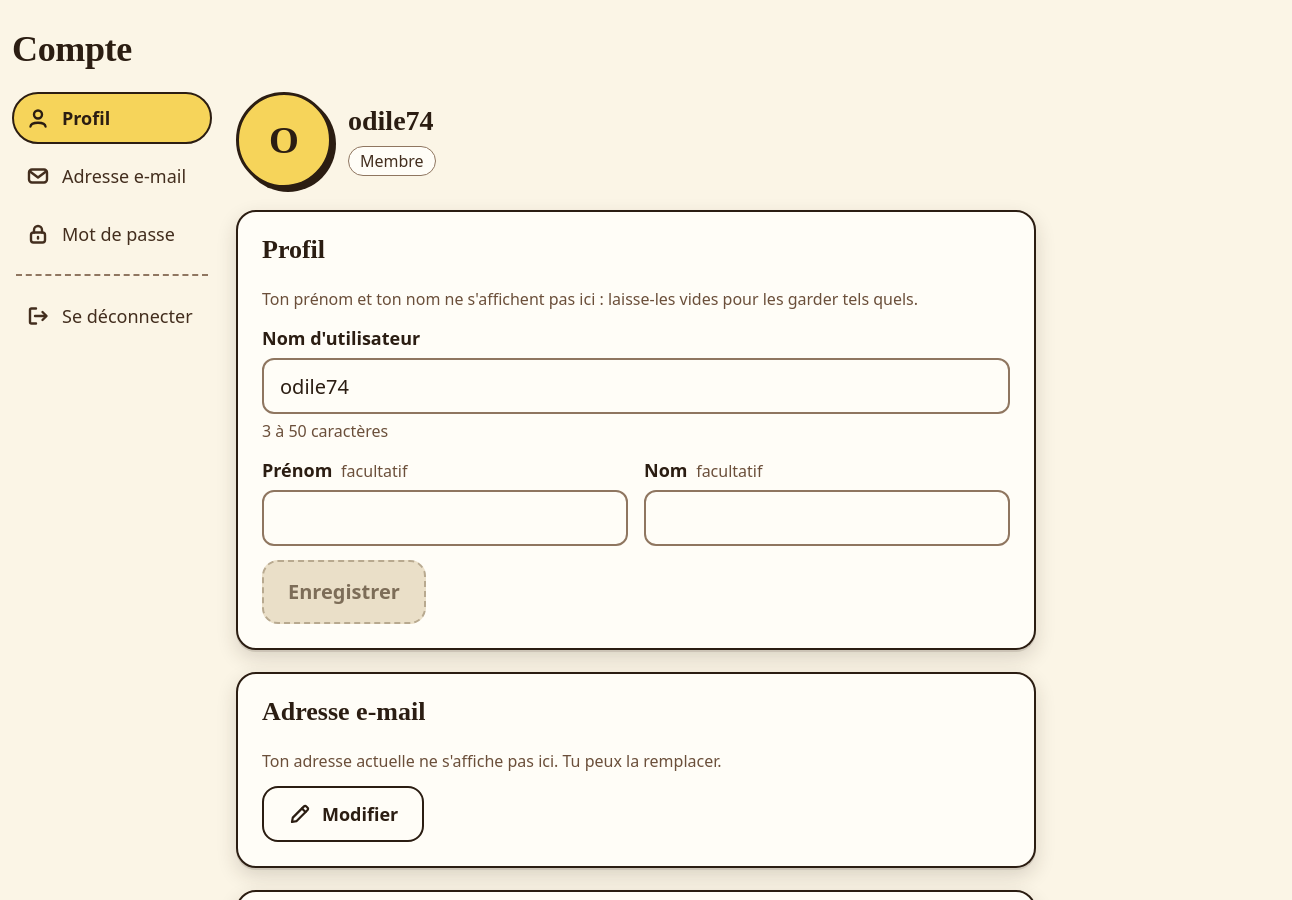
Test case: AccountScreen › when a save fails for another reason, a notification says which and keeps what was typed › says it was not allowed (403), without offering to repeat it
Type "5" into the field labelled "Nom d'utilisateur" at (636, 386), box [262,358,1010,414]
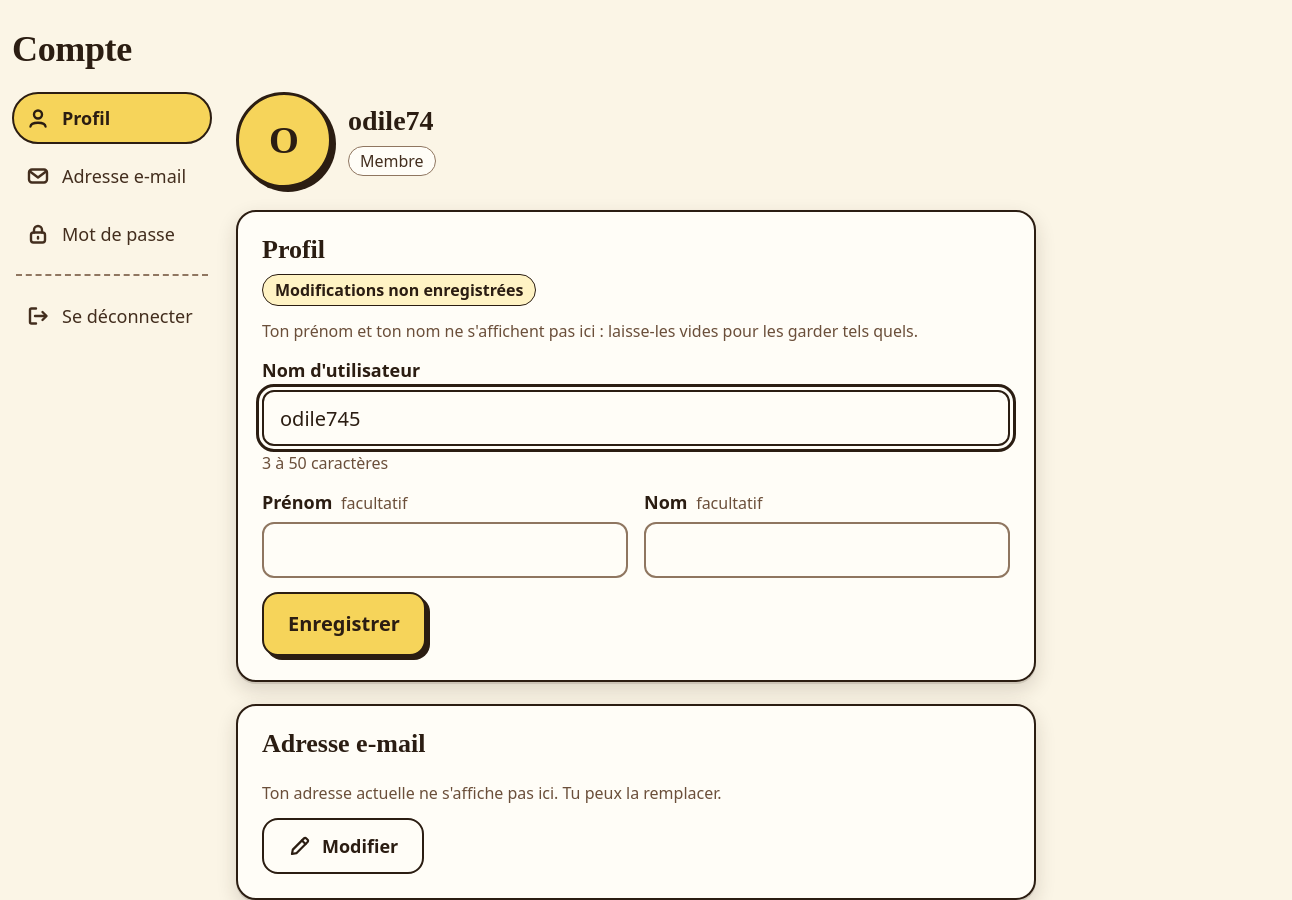
Click the button "Enregistrer" at (344, 624), box [262,592,426,656]
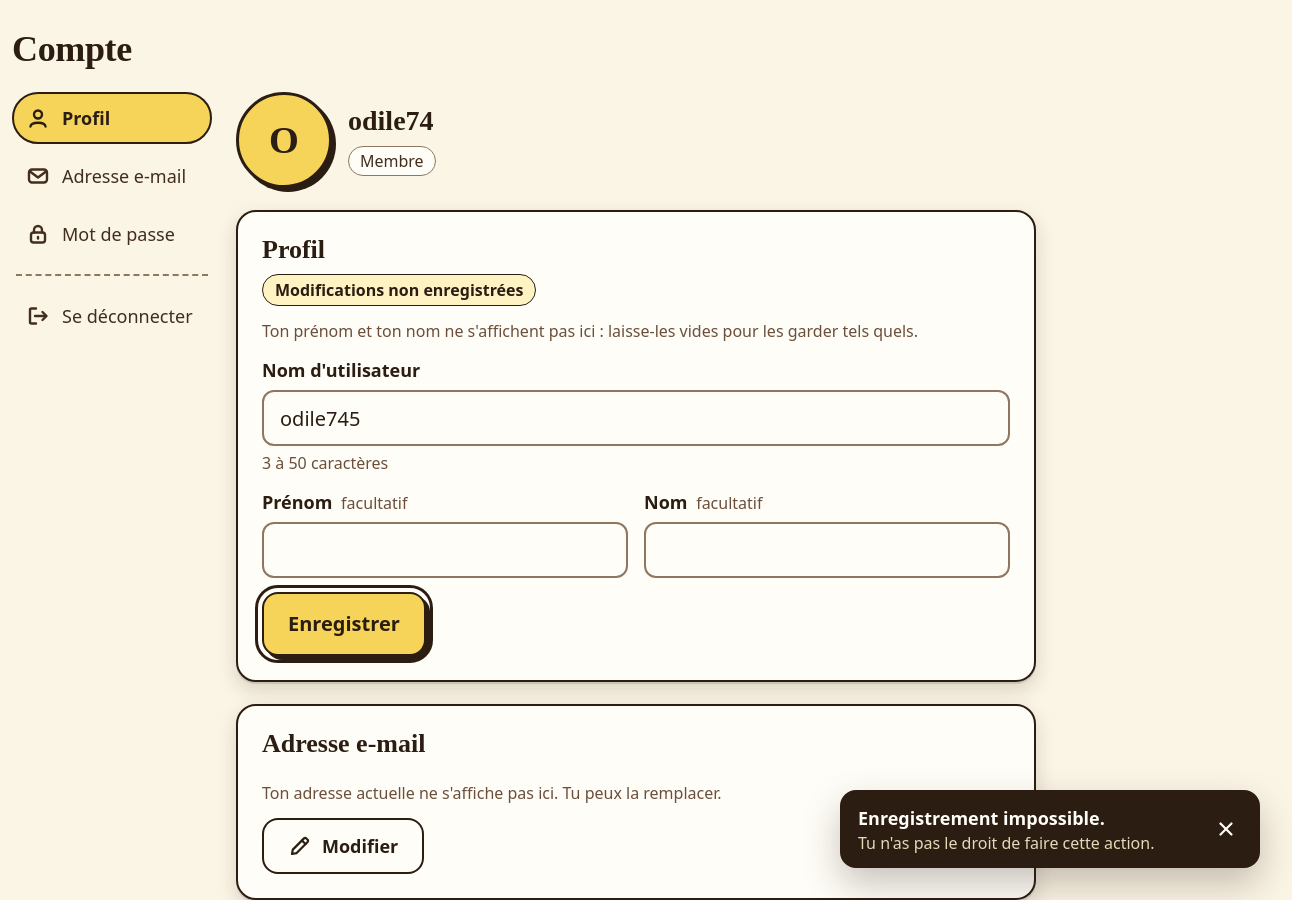
Check: the message "Enregistrement impossible. Tu n'as pas le droit de faire cette action." is shown, box [840,790,1260,868]
